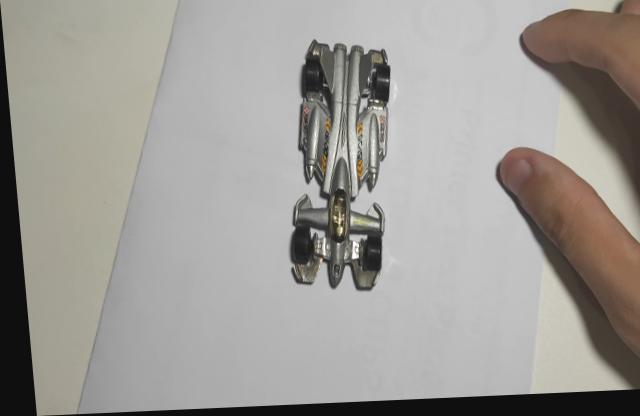05_DC121: (283, 45, 391, 295)
